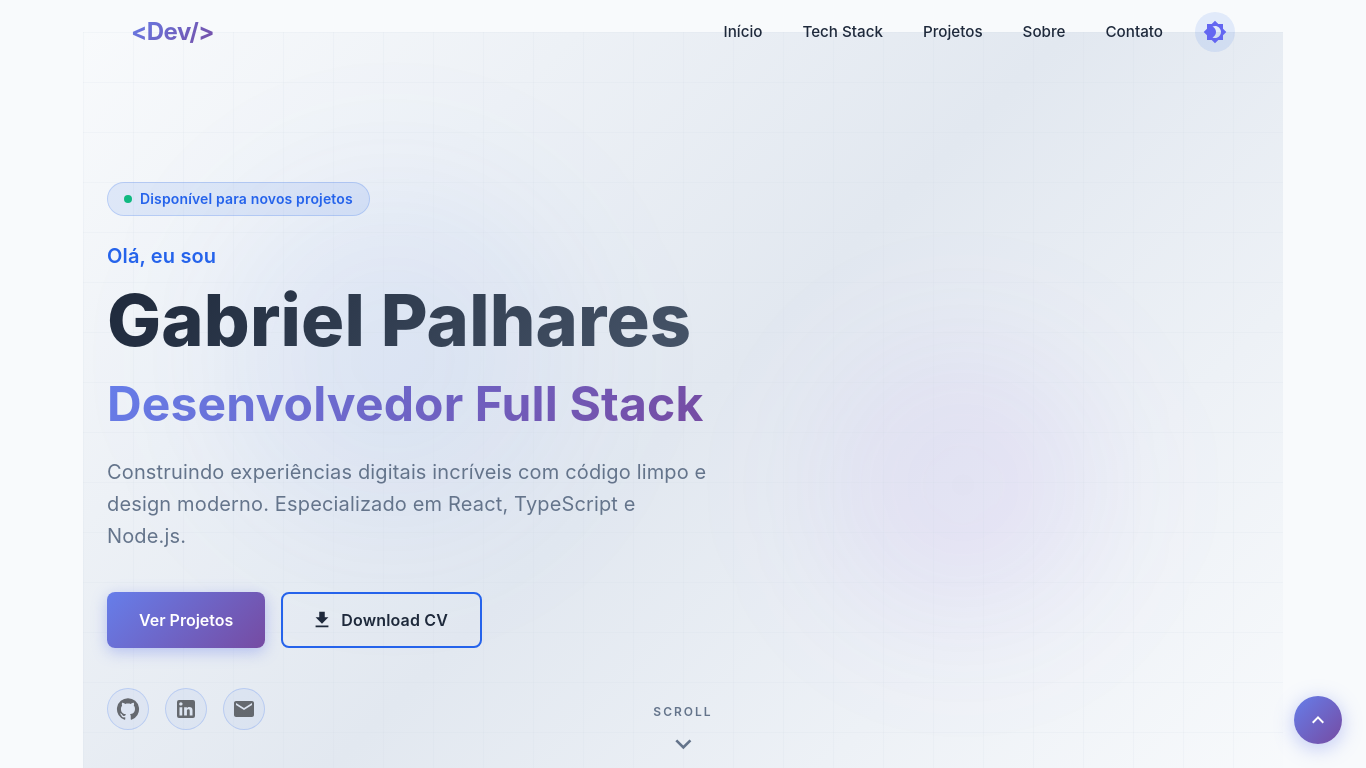
Test: App › toggles the theme and persists the new mode
Click the button with test id "Brightness4Icon": (1215,32) [1195,12,1235,52]
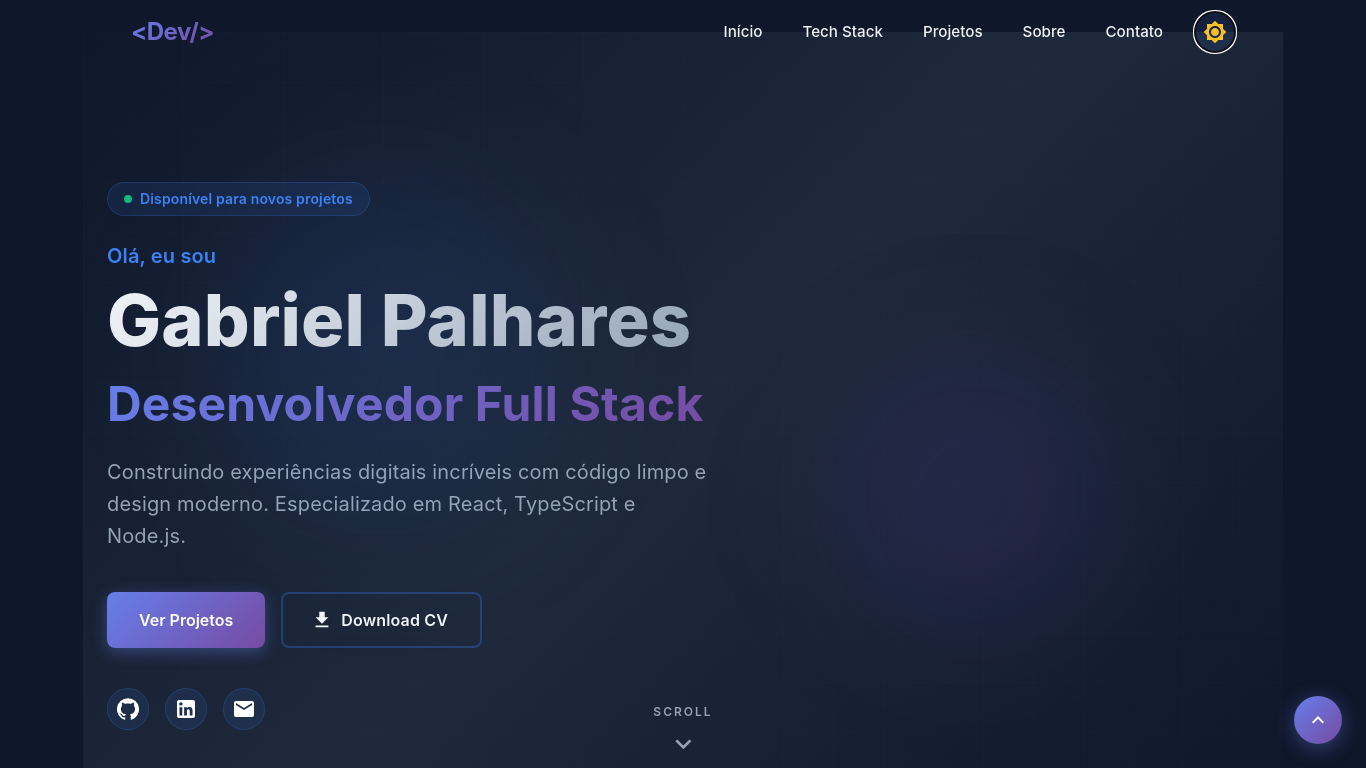
Expected: the icon with test id "Brightness7Icon" is shown, [1203,20,1227,44]
Click the button with test id "Brightness7Icon": (1215,32) [1195,12,1235,52]
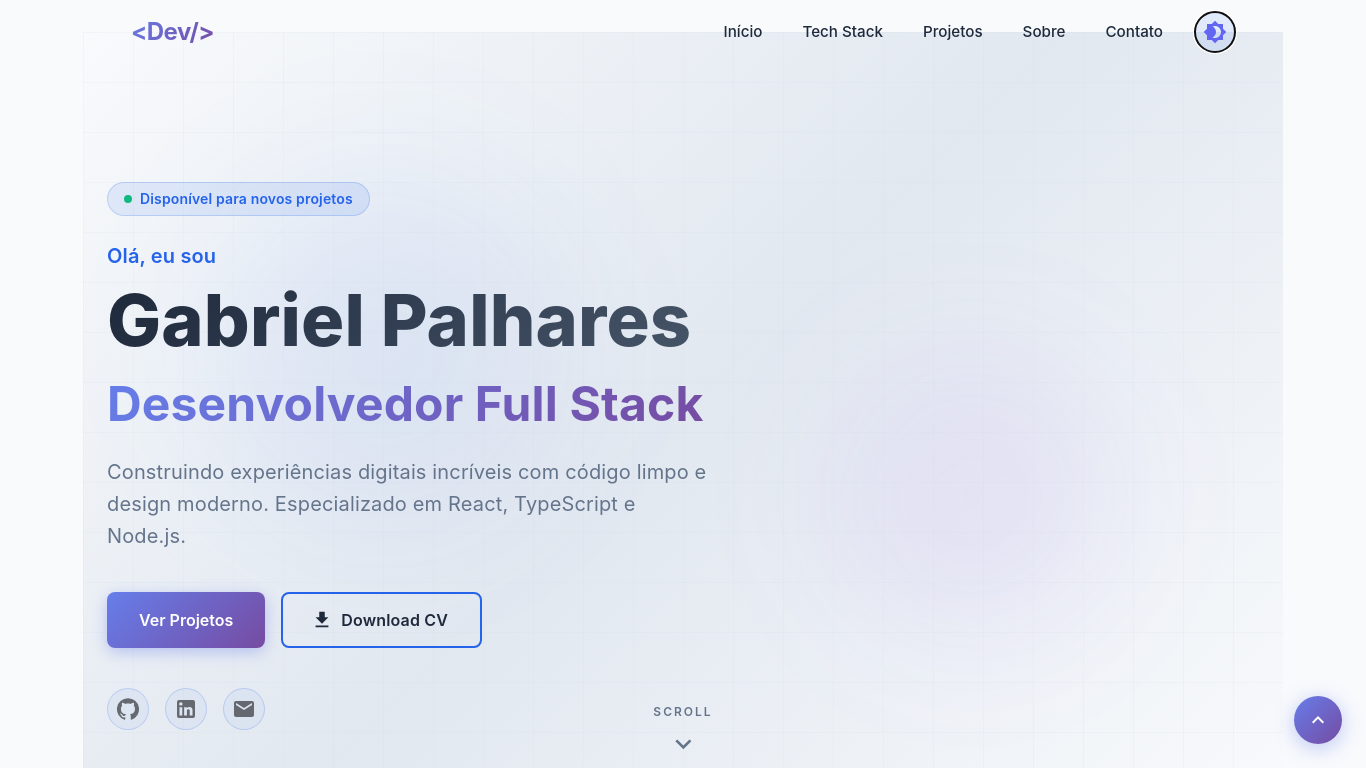
Expected: the icon with test id "Brightness4Icon" is shown, [1203,20,1227,44]
